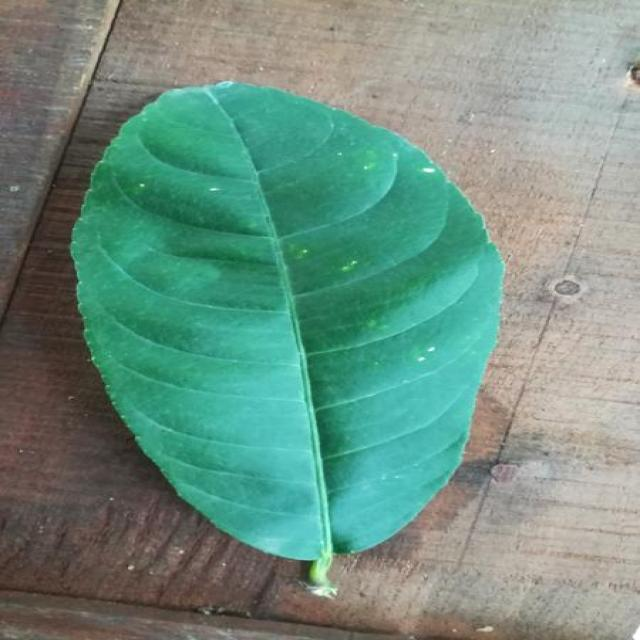badipala: (72, 82, 503, 595)
